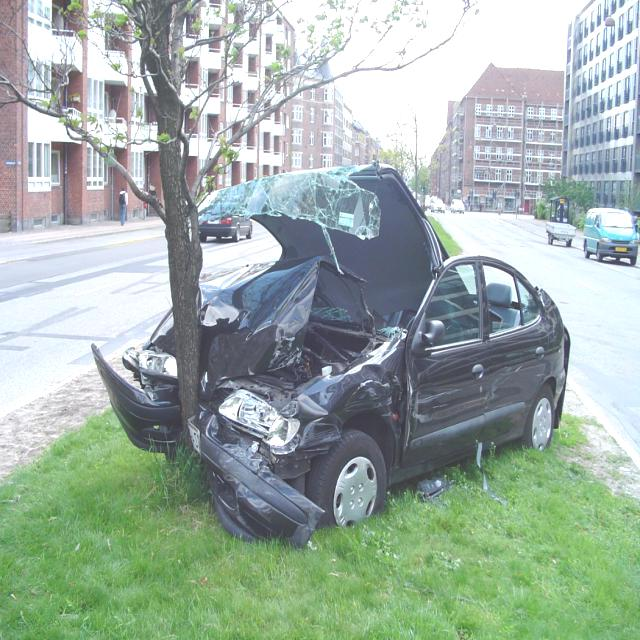accident: (95, 165, 575, 549)
